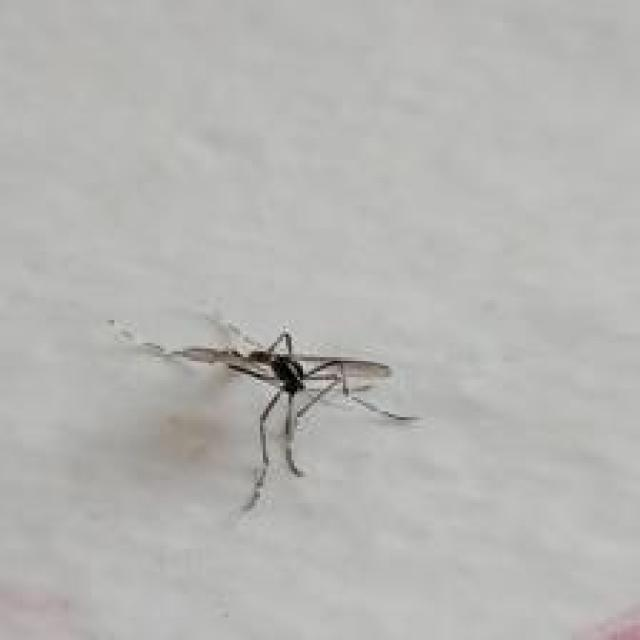Aedes albopictus: (106, 314, 420, 514)
